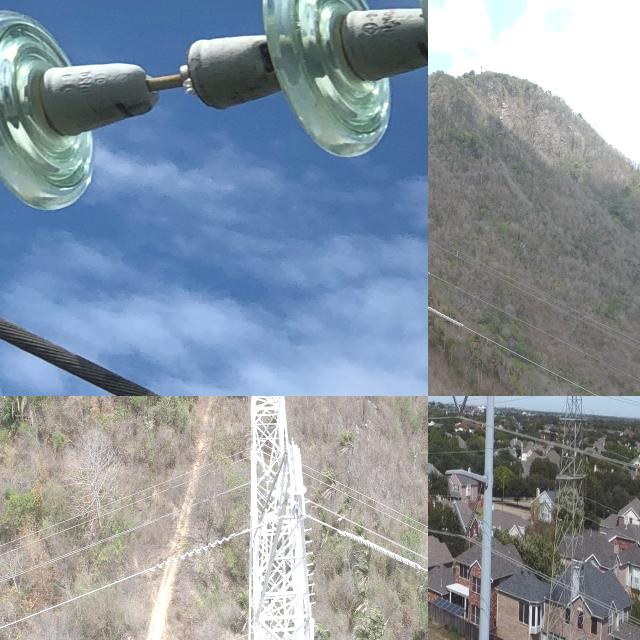杆塔: (535, 396, 597, 640), (247, 396, 304, 640)
正常电缆: (428, 225, 640, 351), (428, 267, 640, 387), (428, 304, 604, 396)
正常绝缘子: (0, 0, 390, 219), (451, 492, 483, 541), (450, 396, 470, 421)
绝缘子破损: (95, 31, 239, 133)
